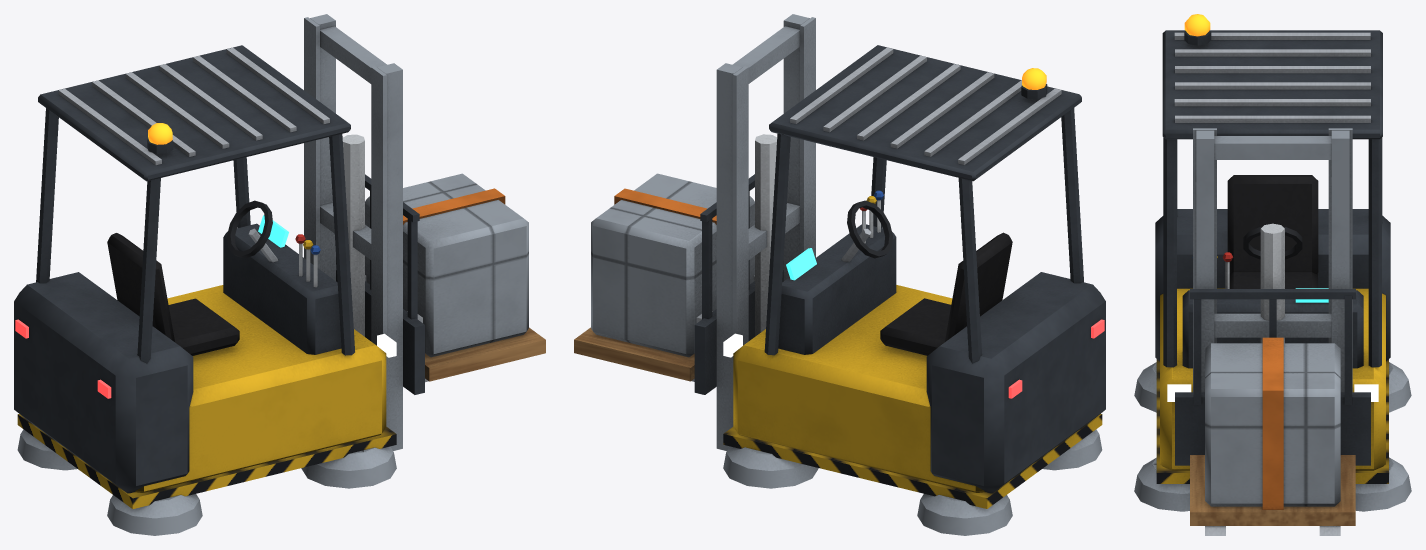
File: montacargas.fbx
The picture shows the model from 3 angles, left to right: view 1: azimuth 30°, elevation 25°; view 2: azimuth 150°, elevation 25°; view 3: azimuth 270°, elevation 25°; orthographic projection.
Parts seen in each view (by area): view 1: montacargas, montacargas_carga, montacargas_horquilla; view 2: montacargas, montacargas_carga, montacargas_horquilla; view 3: montacargas, montacargas_carga, montacargas_horquilla, montacargas_blanco_luz, montacargas_naranja_neon.
Part boxes in pixels (<box>): montacargas: <box>14,14,402,535</box>; montacargas_carga: <box>365,173,545,381</box>; montacargas_horquilla: <box>336,174,428,394</box>; montacargas: <box>716,14,1105,535</box>; montacargas_carga: <box>574,173,754,381</box>; montacargas_horquilla: <box>691,174,783,394</box>; montacargas: <box>1134,30,1411,511</box>; montacargas_carga: <box>1190,337,1355,525</box>; montacargas_horquilla: <box>1175,289,1370,535</box>; montacargas_blanco_luz: <box>1167,384,1378,401</box>; montacargas_naranja_neon: <box>1184,14,1210,36</box>.
Size of the model in its own units: 3.48 by 2.86 by 1.84.
Materials: 2 (2 with a texture image).
